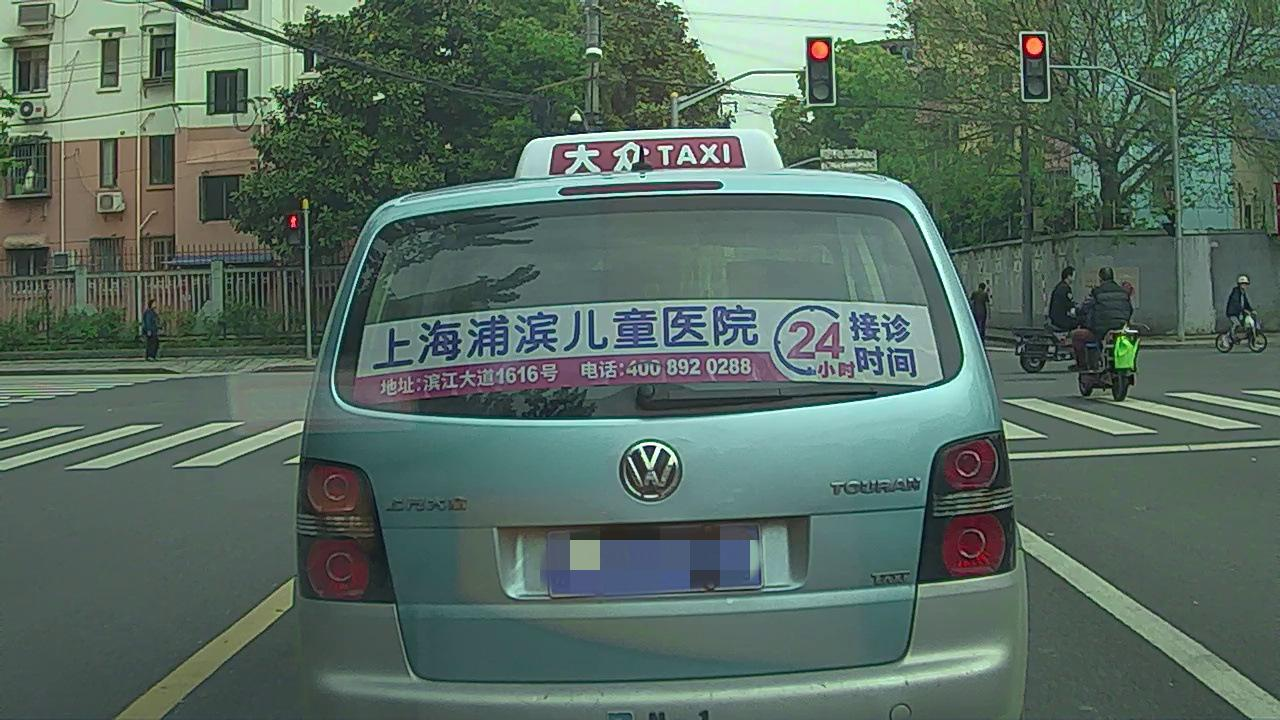traffic_light: (1020, 32, 1048, 100), (808, 38, 835, 104)
